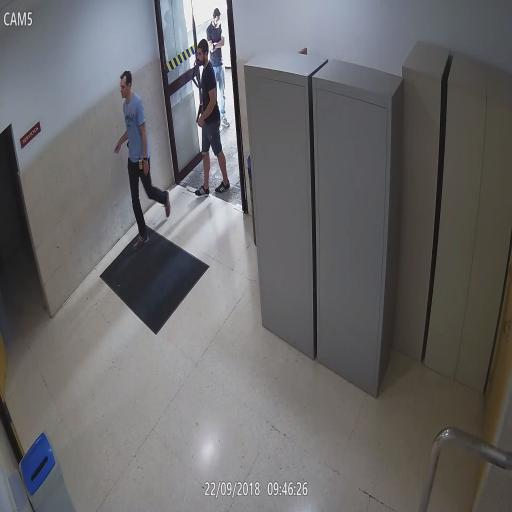Handgun: (196, 102, 204, 126)
